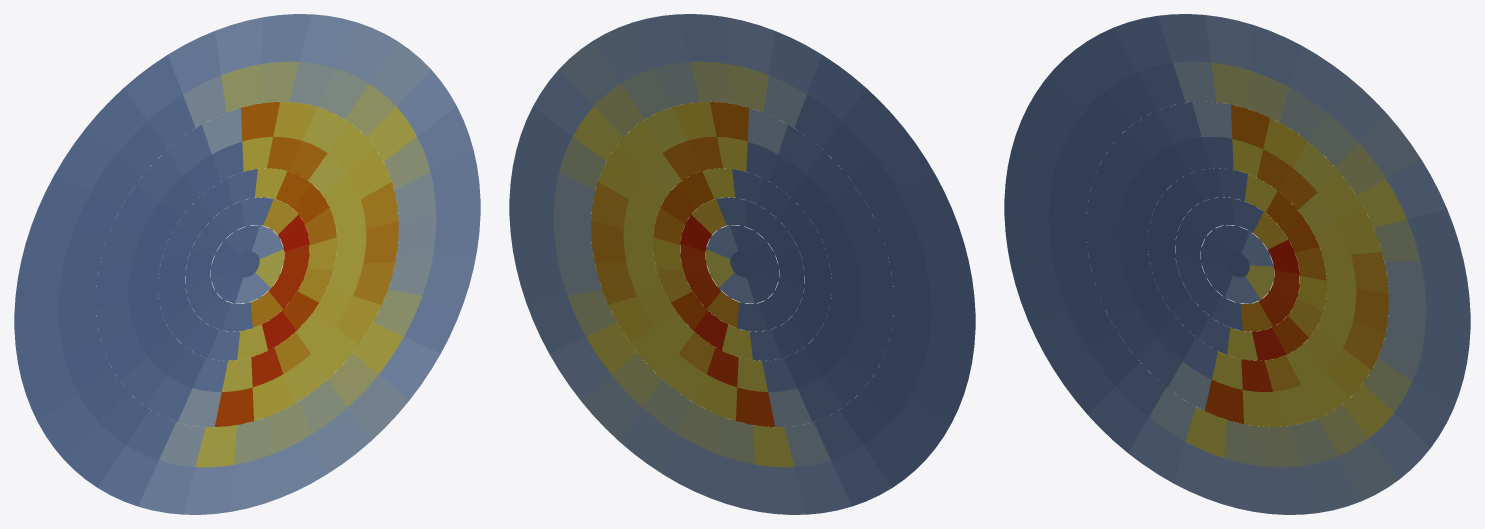
File: stereo.obj
The picture shows the model from 3 angles, left to right: view 1: azimuth 30°, elevation 25°; view 2: azimuth 150°, elevation 25°; view 3: azimuth 330°, elevation 25°; orthographic projection.
Parts seen in each view (by area): view 1: object_1; view 2: object_1; view 3: object_1.
Boxes of the visible parts, bbox=[...] form: object_1: bbox=[14, 14, 480, 514]; object_1: bbox=[509, 14, 975, 514]; object_1: bbox=[1004, 14, 1470, 514].
Size of the model in its own units: 200 by 200 by 0.
